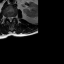CCS_normal: (9, 14, 11, 23)
LFS_stenosis: (13, 14, 15, 19)
LLS_normal: (11, 14, 13, 21)
RFS_stenosis: (5, 14, 7, 20)
RLS_normal: (7, 15, 9, 20)
